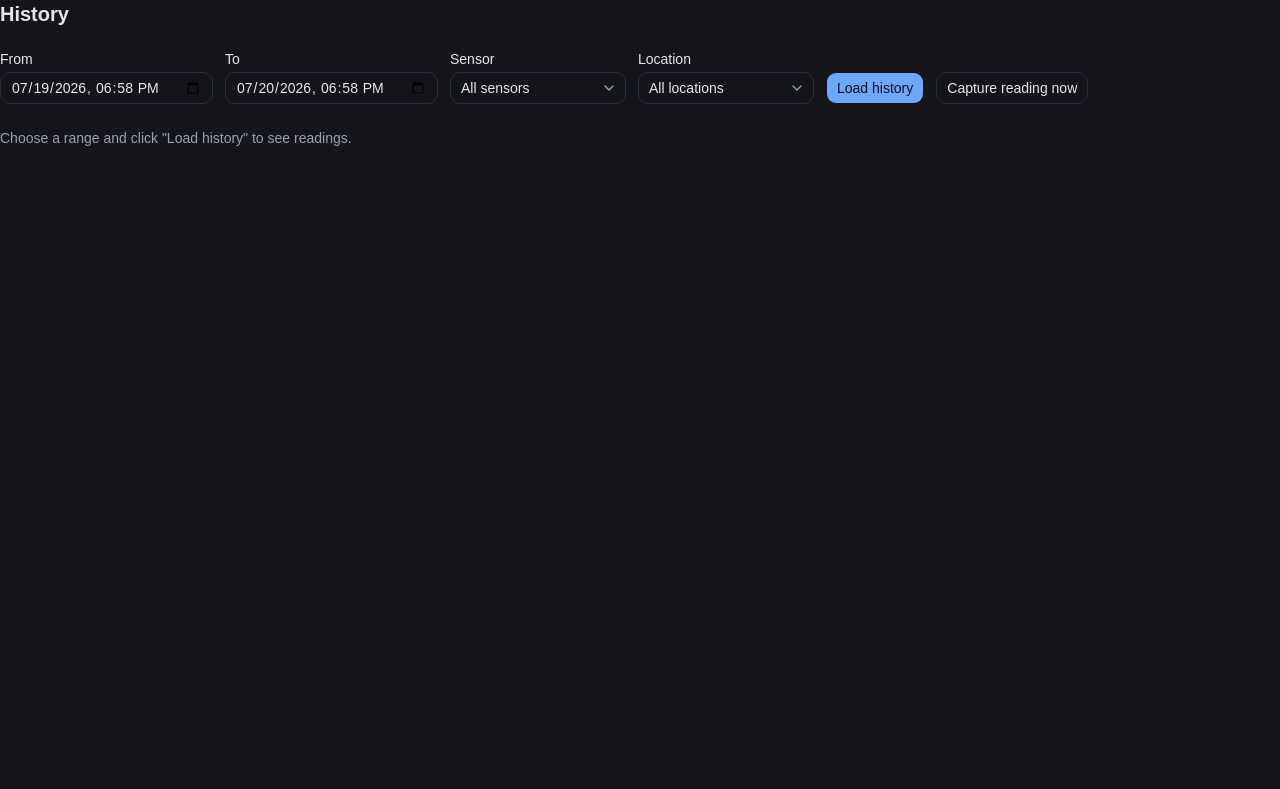
Test: History › renders charts once a non-empty history is loaded
The image size is (1280, 789).
Click the button "Load history" at [875, 88], box x1=826 y1=72 x2=924 y2=104
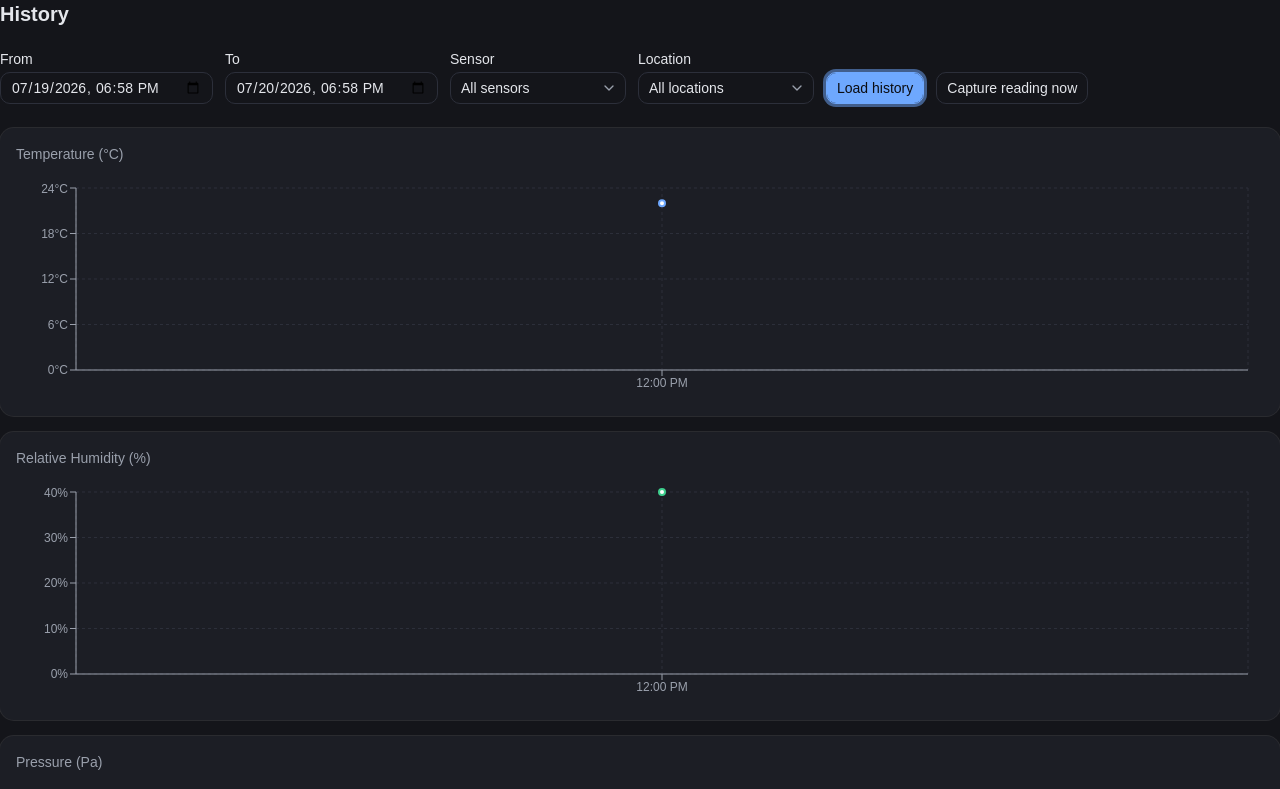
Expected: the text "Temperature (°C)" is shown, x1=16 y1=146 x2=124 y2=162
